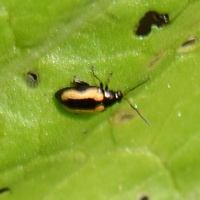insect: (55, 66, 150, 125)
